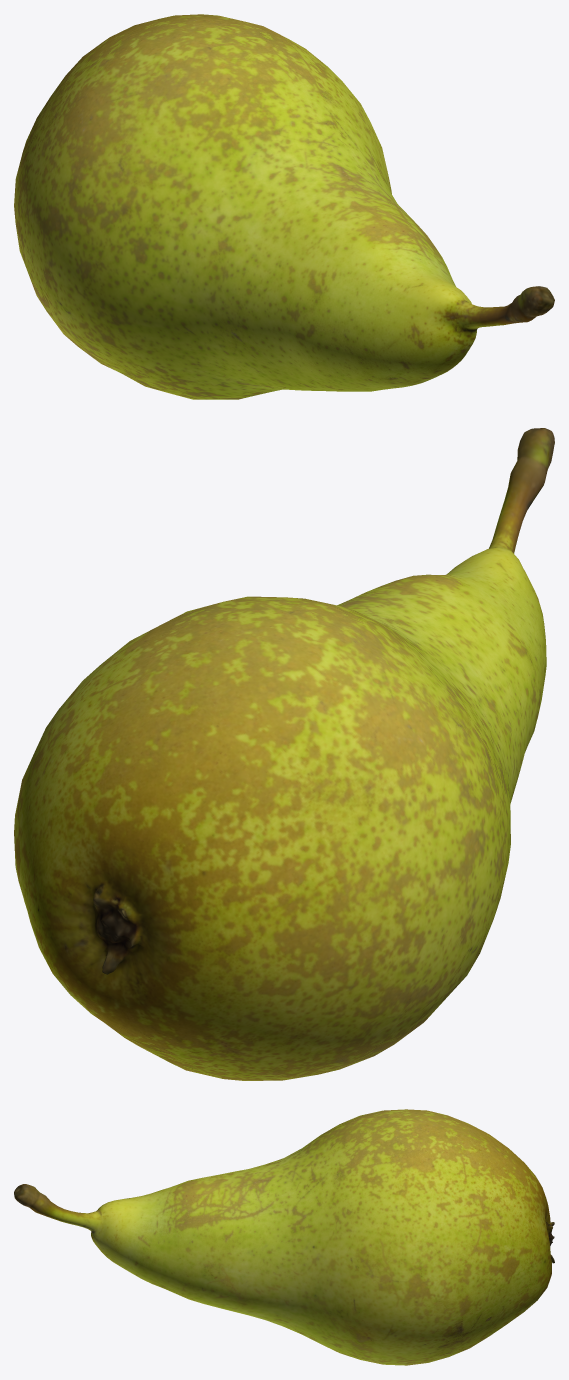
3 renders of one model, top to bottom at view 1: azimuth 30°, elevation 25°; view 2: azimuth 150°, elevation 25°; view 3: azimuth 270°, elevation 25°, orthographic. The views are drawn at different scales.
Size of the model in its own units: 0.4796 by 0.4867 by 1.
